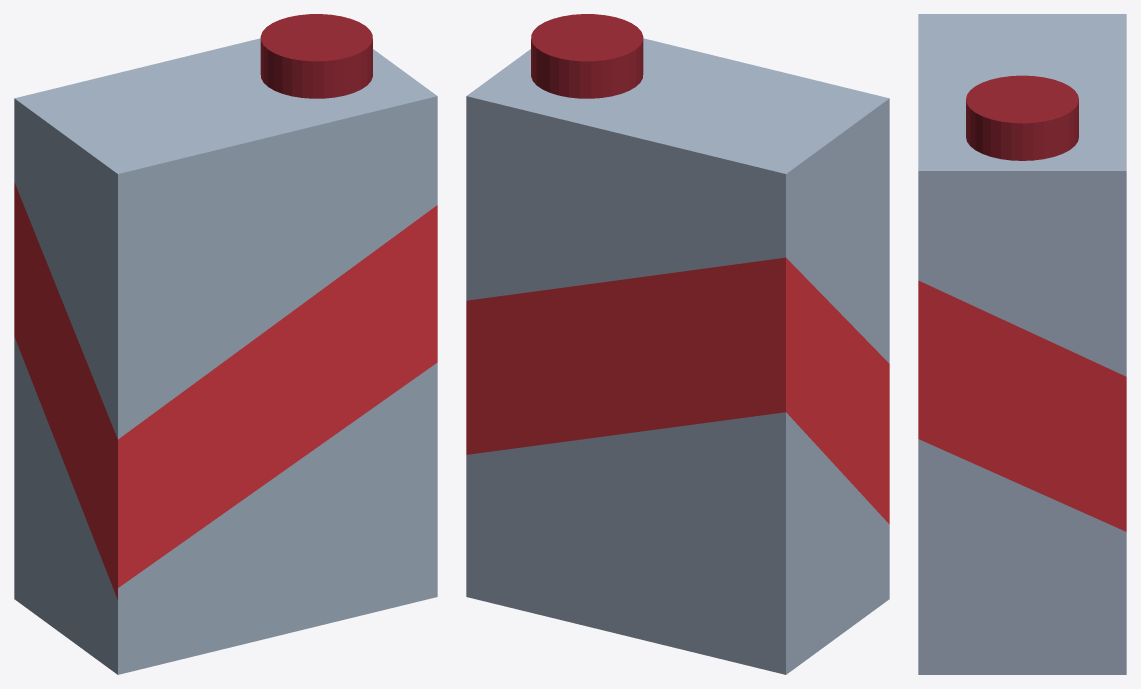
The model's file is Milk.fbx.
3 renders of one model, left to right at view 1: azimuth 30°, elevation 25°; view 2: azimuth 150°, elevation 25°; view 3: azimuth 270°, elevation 25°, orthographic.
Parts seen in each view (by area): view 1: Cube.001; view 2: Cube.001; view 3: Cube.001.
Boxes of the visible parts, bbox=[...] form: Cube.001: bbox=[14, 14, 437, 674]; Cube.001: bbox=[466, 14, 889, 674]; Cube.001: bbox=[918, 14, 1126, 674].
Bounding box in the file's own units: 216 × 348 × 121.
